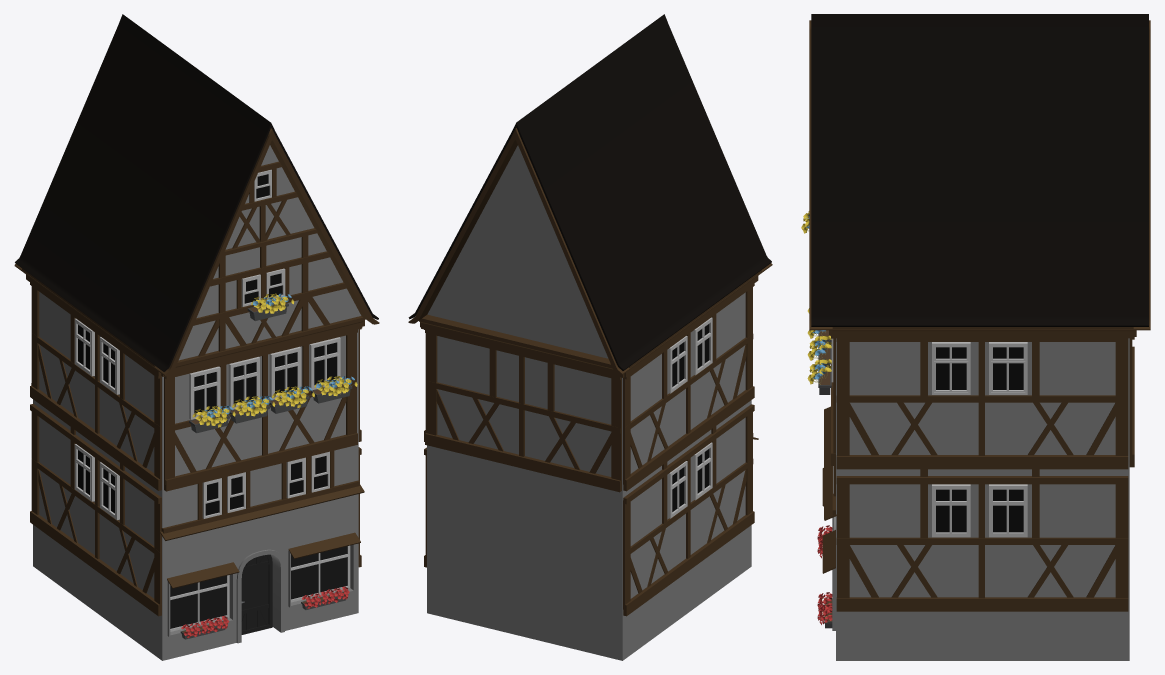
File: SM_house_german_002.fbx
3 views of the same model, side by side, from view 1: azimuth 30°, elevation 25°; view 2: azimuth 150°, elevation 25°; view 3: azimuth 270°, elevation 25° (orthographic). The views are drawn at different scales.
Parts seen in each view (by area): view 1: Object069; view 2: Object069; view 3: Object069.
Boxes of the visible parts, x1,y1,x2,y2 form: Object069: (14,14,379,660); Object069: (408,14,772,660); Object069: (801,14,1150,660).
Bounding box in the file's own units: 243 × 301 × 563.
